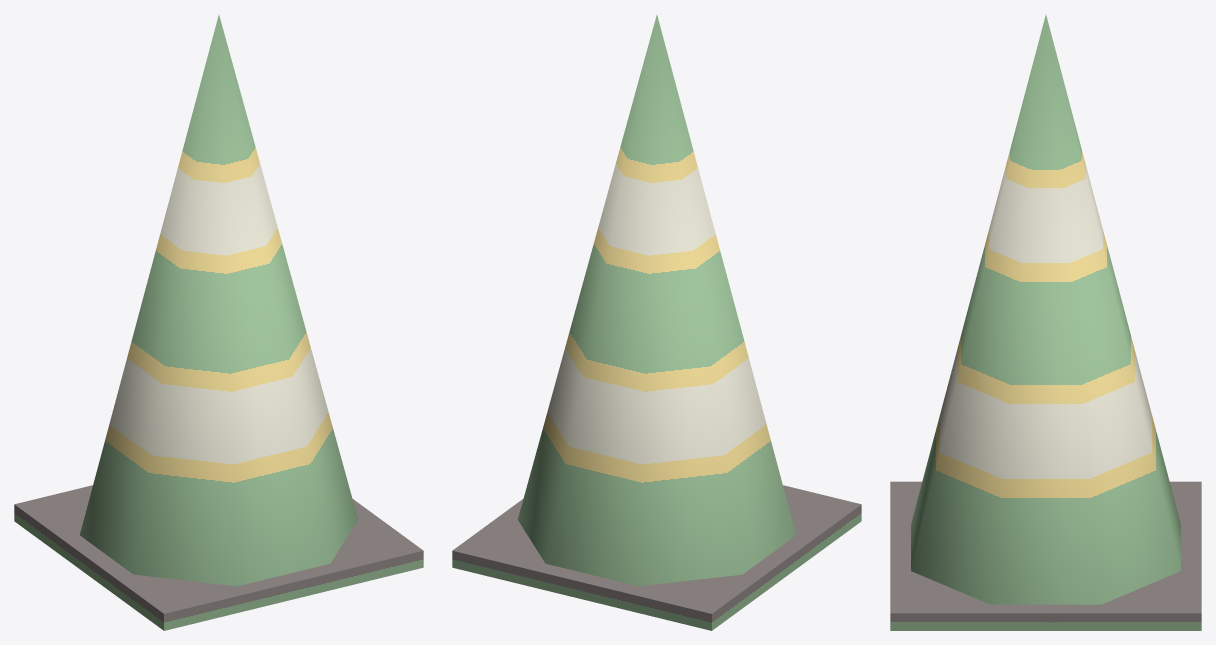
Rendered from 0474_Mini_Pylon.glb.
3 views of the same model, side by side, from view 1: azimuth 30°, elevation 25°; view 2: azimuth 150°, elevation 25°; view 3: azimuth 270°, elevation 25° (orthographic). The views are drawn at different scales.
Visible parts, largest first — view 1: part_0; view 2: part_0; view 3: part_0.
Boxes of the visible parts, x1,y1,x2,y2 form: part_0: (14, 15, 423, 630); part_0: (452, 15, 861, 630); part_0: (890, 15, 1201, 630).
Bounding box in the file's own units: 0.0512 × 0.1 × 0.0512.
Materials: 1 (1 with a texture image).
